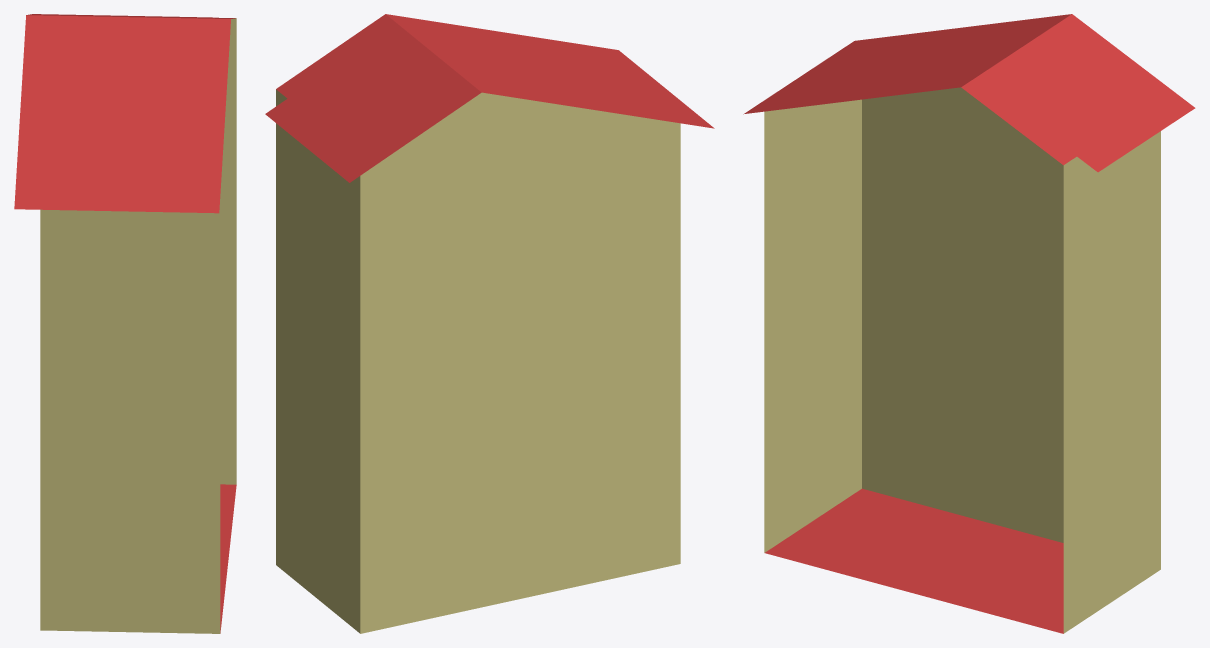
The picture shows the model from 3 angles, left to right: view 1: azimuth 30°, elevation 25°; view 2: azimuth 150°, elevation 25°; view 3: azimuth 270°, elevation 25°; orthographic projection.
Bounding box in the file's own units: 7.57 × 9.04 × 11.45.
